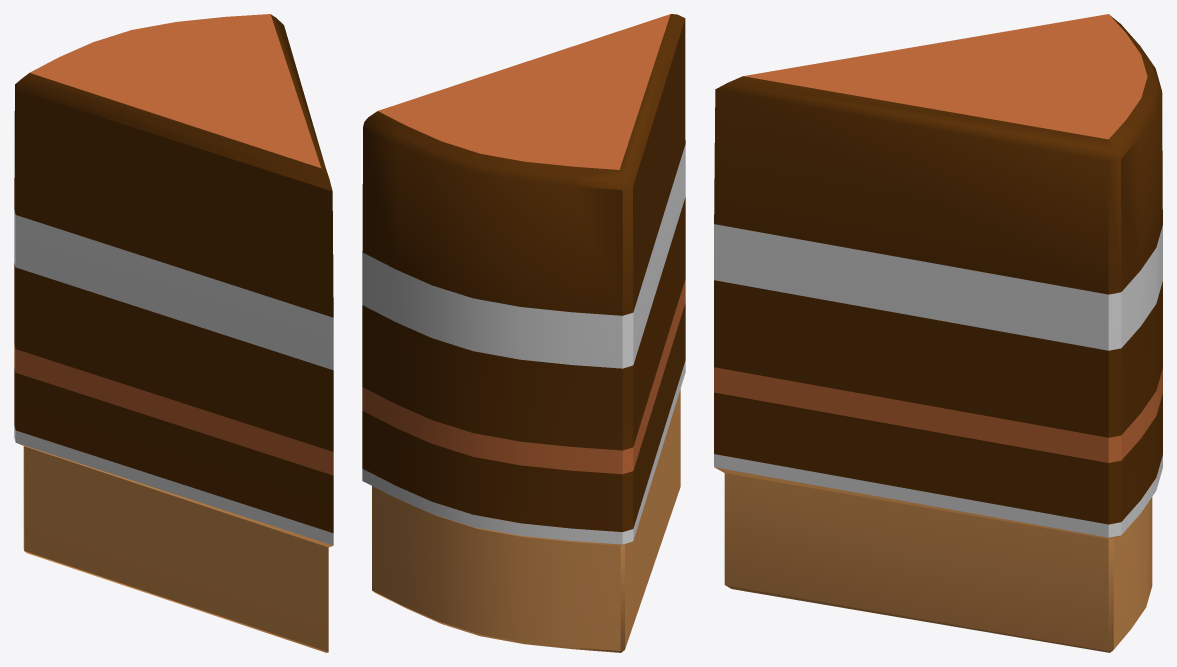
Rendered from Cake_4 Half_2.fbx.
3 renders of one model, left to right at view 1: azimuth 30°, elevation 25°; view 2: azimuth 150°, elevation 25°; view 3: azimuth 270°, elevation 25°, orthographic. The views are drawn at different scales.
Parts seen in each view (by area): view 1: Cake_4 Half_2; view 2: Cake_4 Half_2; view 3: Cake_4 Half_2.
Boxes of the visible parts, bbox=[...] form: Cake_4 Half_2: bbox=[14, 14, 333, 652]; Cake_4 Half_2: bbox=[362, 14, 685, 652]; Cake_4 Half_2: bbox=[714, 14, 1162, 652].
Size of the model in its own units: 0.1012 by 0.1731 by 0.1372.
